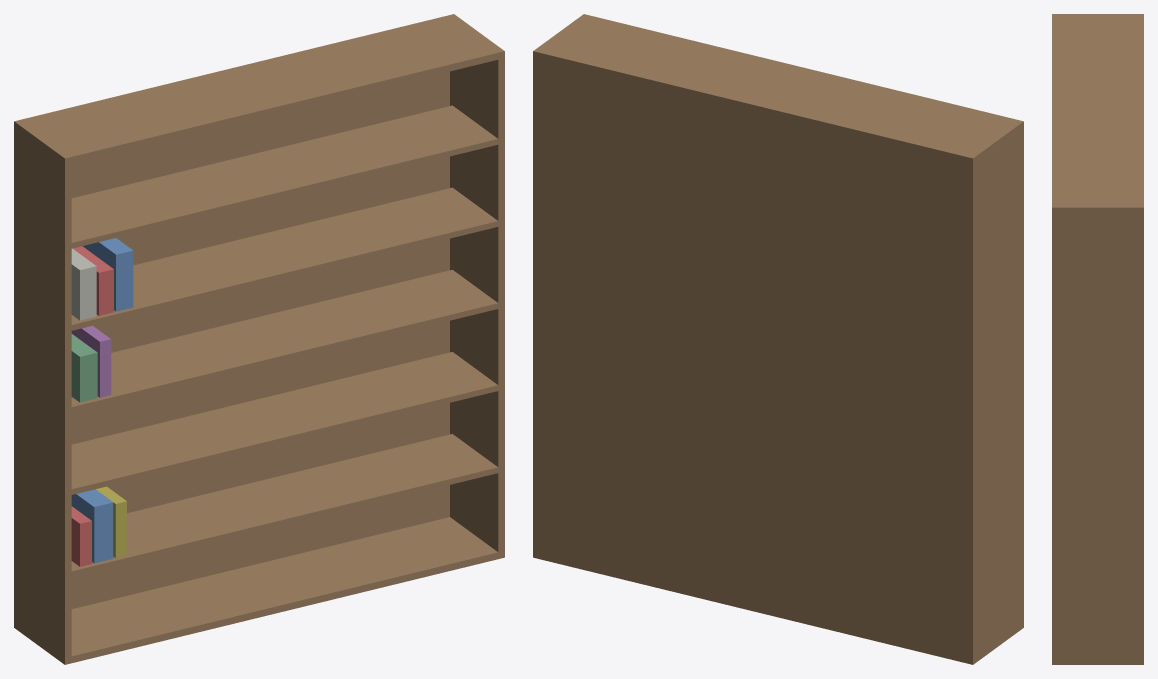
The model's file is Bookcase_Disguise.fbx.
3 views of the same model, side by side, from view 1: azimuth 30°, elevation 25°; view 2: azimuth 150°, elevation 25°; view 3: azimuth 270°, elevation 25° (orthographic). The views are drawn at different scales.
Visible parts, largest first — view 1: Bookcase_Disguise; view 2: Bookcase_Disguise; view 3: Bookcase_Disguise.
Boxes of the visible parts, x1=… form: Bookcase_Disguise: x1=14, y1=14, x2=504, y2=664; Bookcase_Disguise: x1=533, y1=14, x2=1023, y2=664; Bookcase_Disguise: x1=1052, y1=14, x2=1143, y2=664.
Size of the model in its own units: 2 by 2.2 by 0.4.
